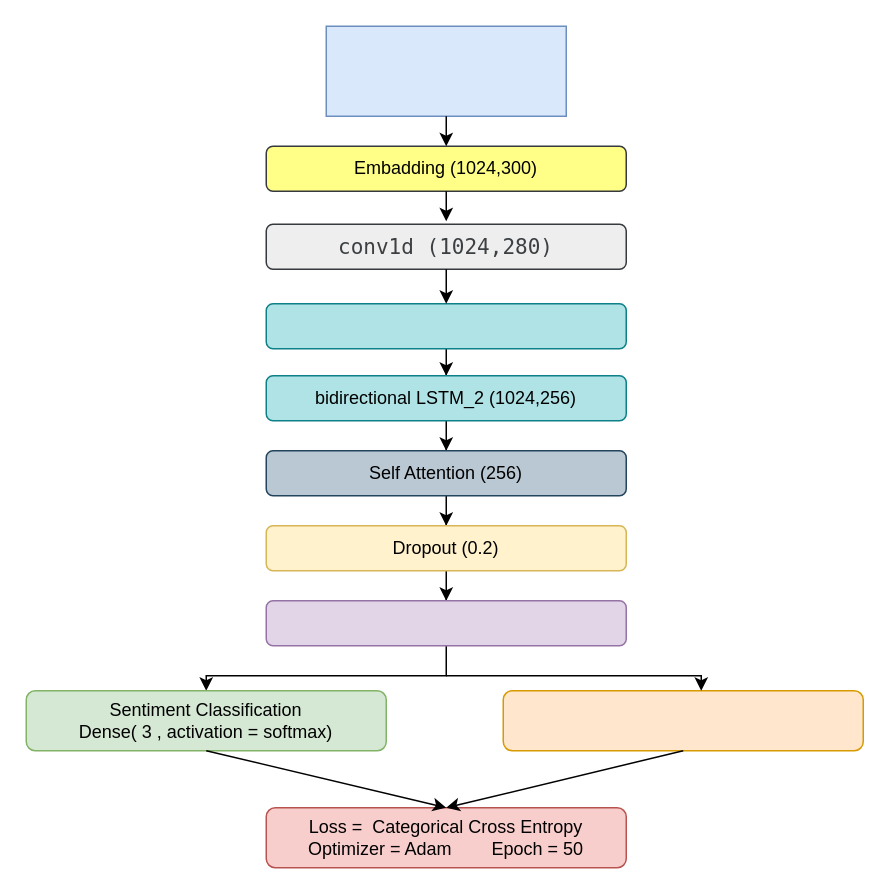
The diagram is 890 pixels wide and 894 high, and some of its shapes have lost their labels. Here are the shapes that lost their labels. From the top down, the box of each, then its label:
(325, 25, 566, 116): Input
(265, 302, 626, 349): bidirectional LSTM_1 (1024,256)
(265, 599, 626, 646): Dense (64)
(502, 689, 863, 751): Emotion Classification Dense (5, activation = softmax)
